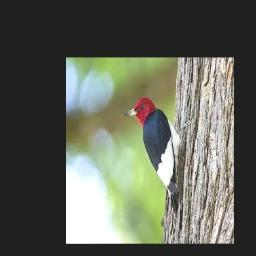Woodpecker: (124, 97, 189, 214)
